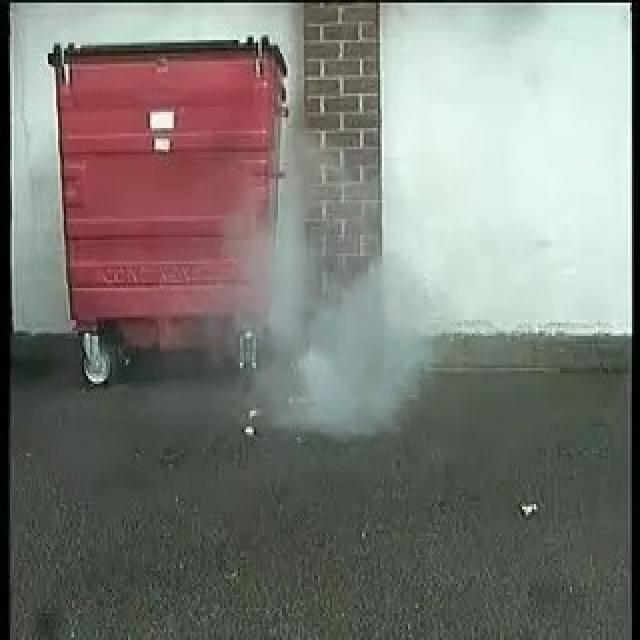smoke: (249, 214, 425, 428)
